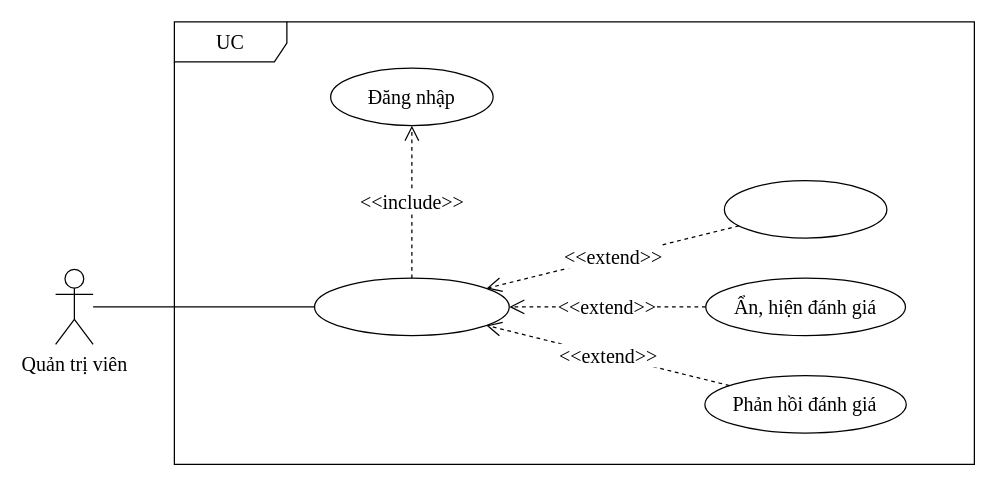
Image size: 996x486. Some labels were removed from this diagram. Each missing label, with the box of its shape:
Lọc đánh giá: (723, 179, 887, 238)
Quản lý đánh giá: (313, 277, 509, 336)
